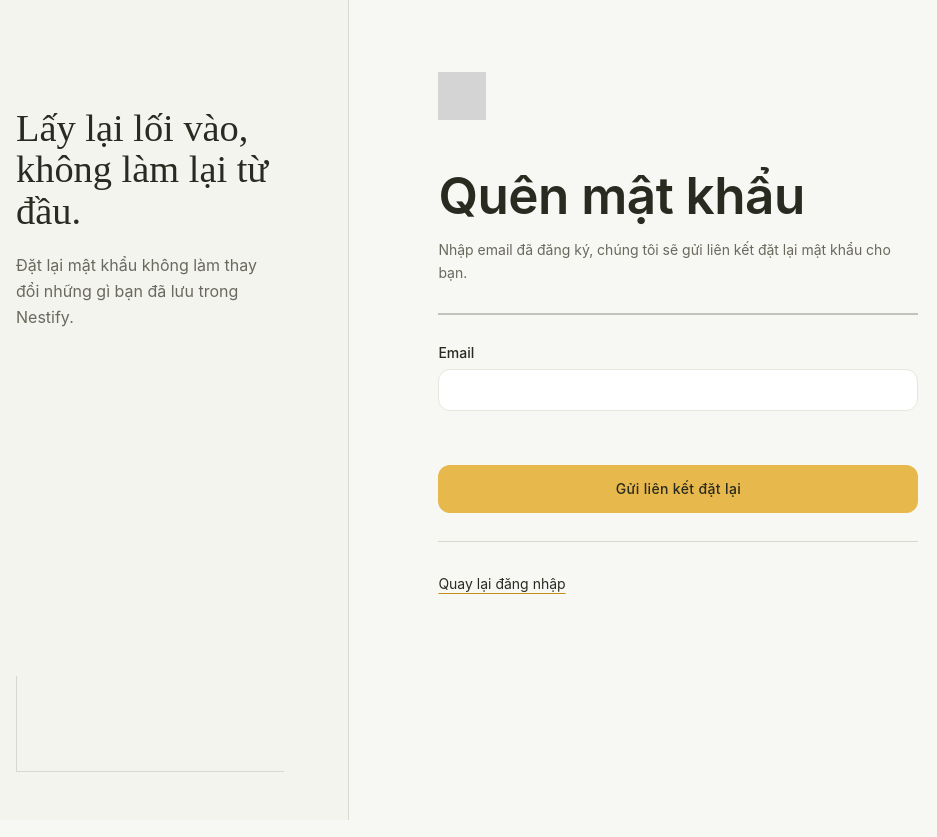
it: ForgotPasswordPage › shows the success message returned by the API
The image size is (937, 837).
In the field labelled "Email": (678, 390) 438,369 -> 918,411, type "bao@example.com"
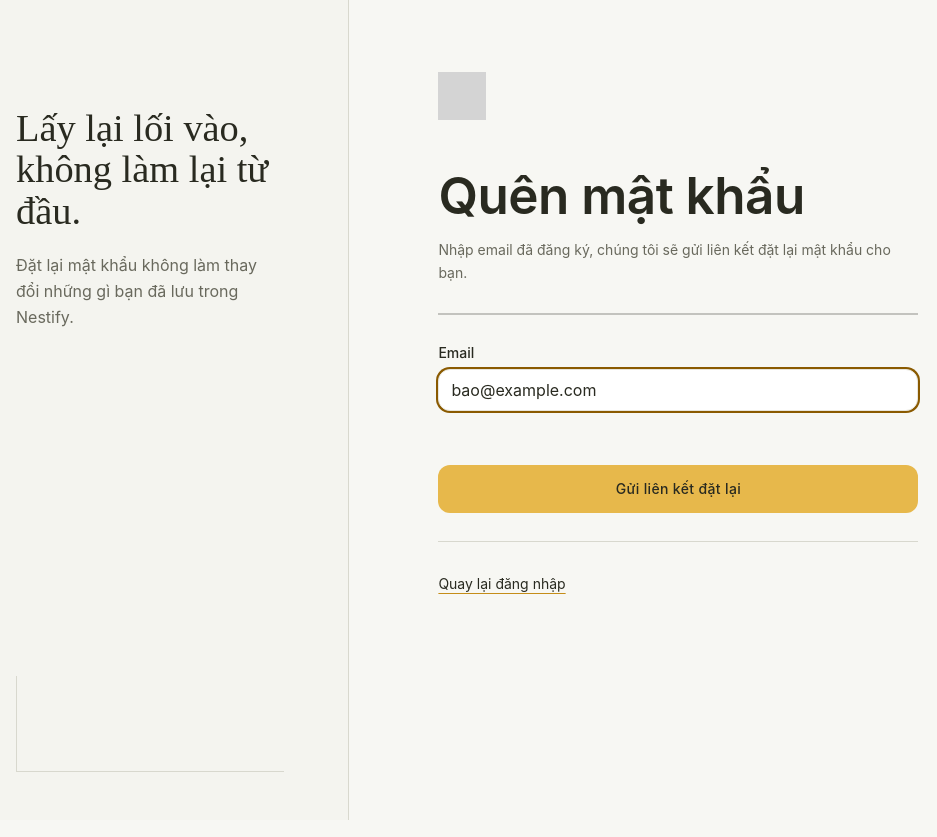
Click the button "Gửi liên kết đặt lại": (678, 489) 438,465 -> 918,513
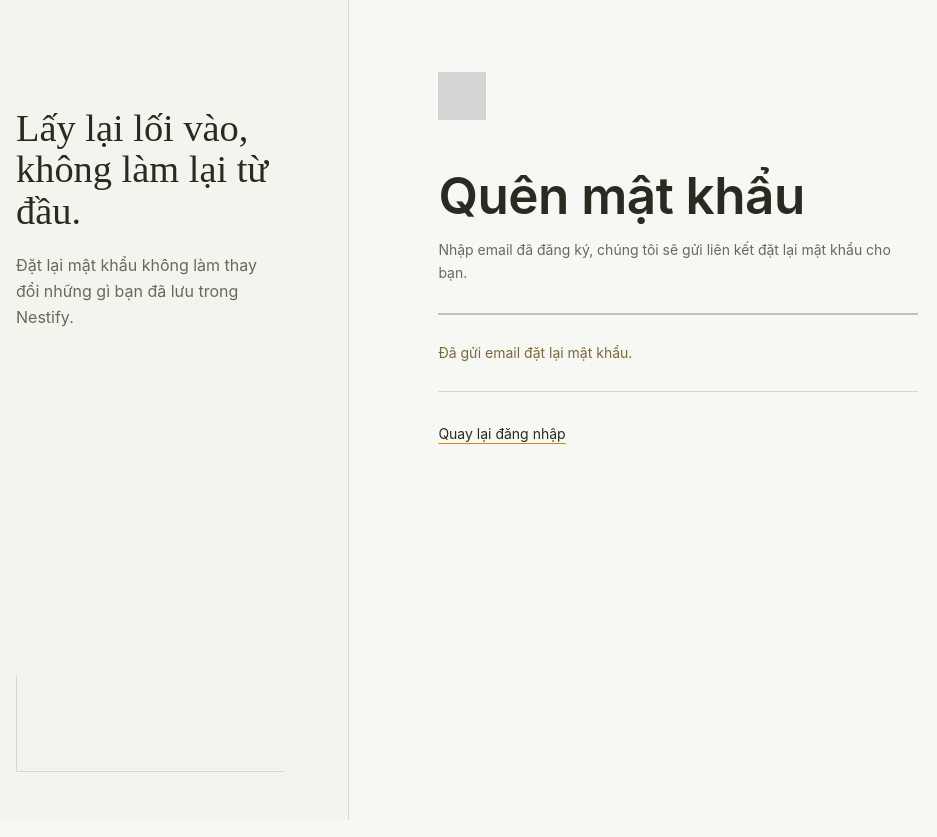
Expected: the text "Đã gửi email đặt lại mật khẩu." is shown, 438,344 -> 632,361
